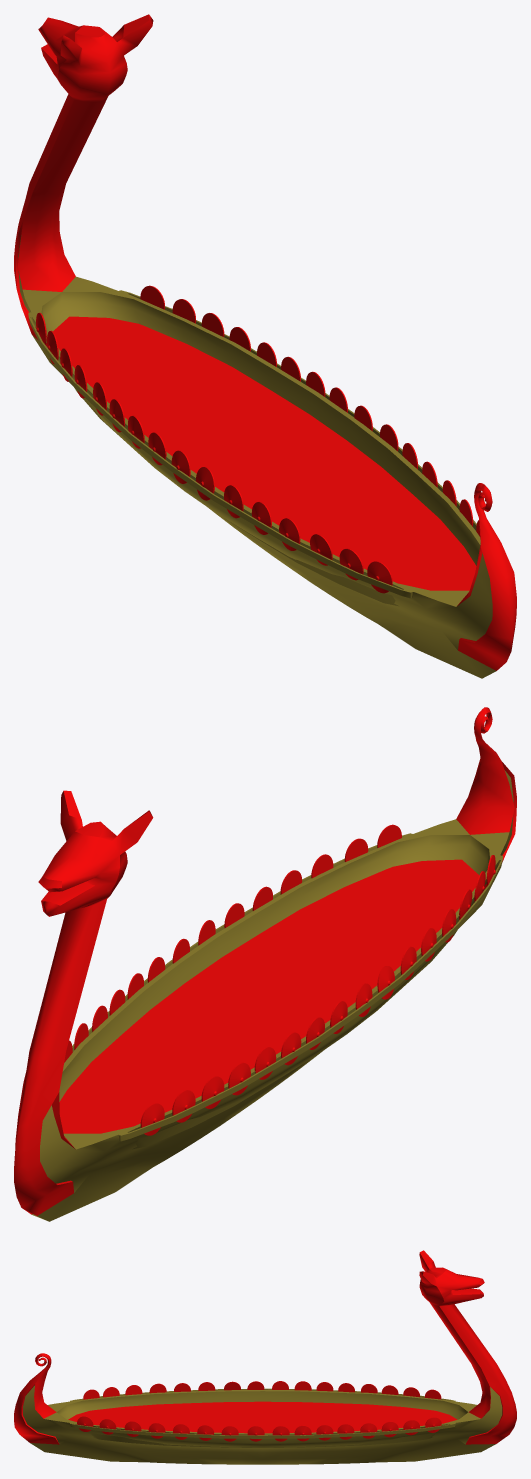
Rendered from drakkar.glb.
3 views of the same model, one above another, from view 1: azimuth 30°, elevation 25°; view 2: azimuth 150°, elevation 25°; view 3: azimuth 270°, elevation 25° (orthographic). The views are drawn at different scales.
Parts seen in each view (by area): view 1: Cube.014, Cylinder.006; view 2: Cube.014, Cylinder.006; view 3: Cube.014, Cylinder.006.
Boxes of the visible parts, <box> form: Cube.014: <box>14,14,516,678</box>; Cylinder.006: <box>36,285,480,593</box>; Cube.014: <box>14,707,516,1221</box>; Cylinder.006: <box>64,824,495,1135</box>; Cube.014: <box>14,1250,516,1464</box>; Cylinder.006: <box>77,1381,441,1441</box>.
Bounding box in the file's own units: 2.87 × 5.7 × 12.94.
